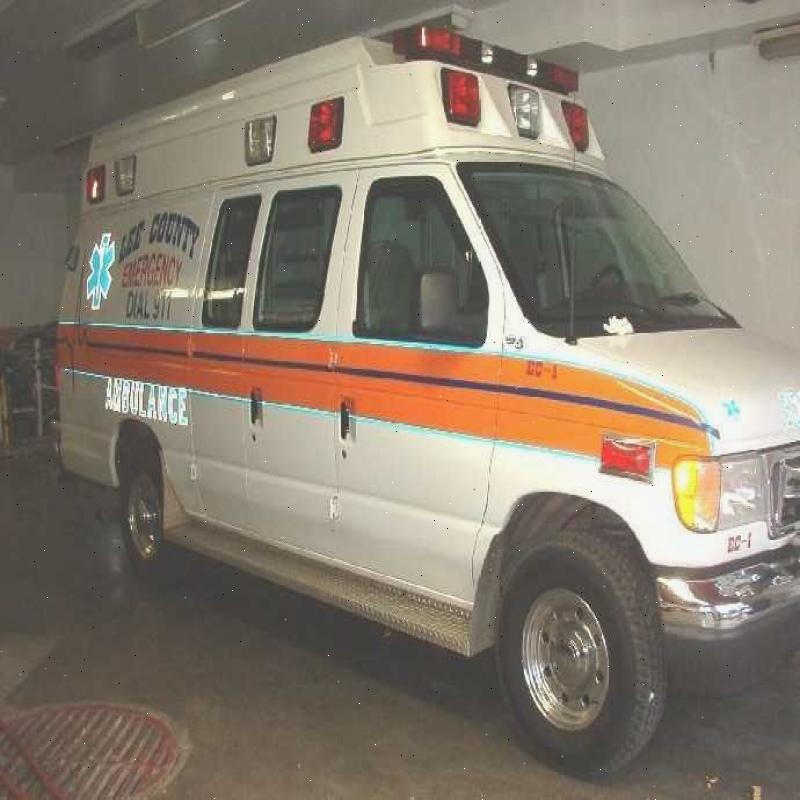AmbulanceSiren: (408, 5, 614, 168)
